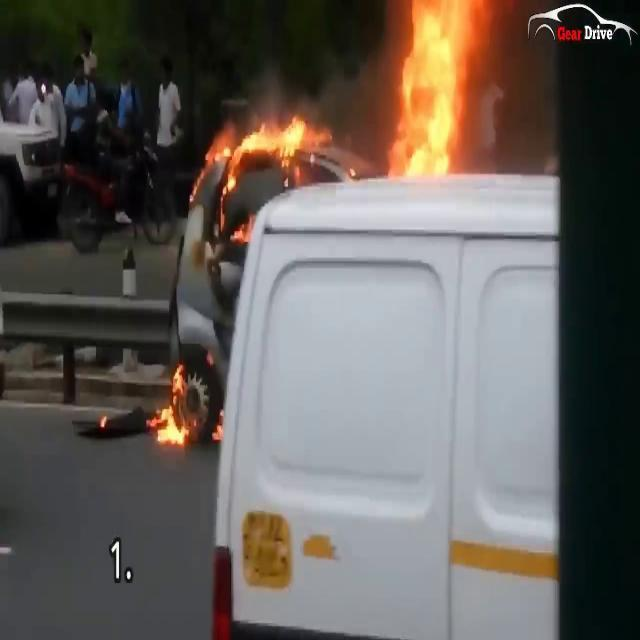Fire: (384, 0, 496, 182), (209, 102, 325, 204), (151, 360, 193, 450)
